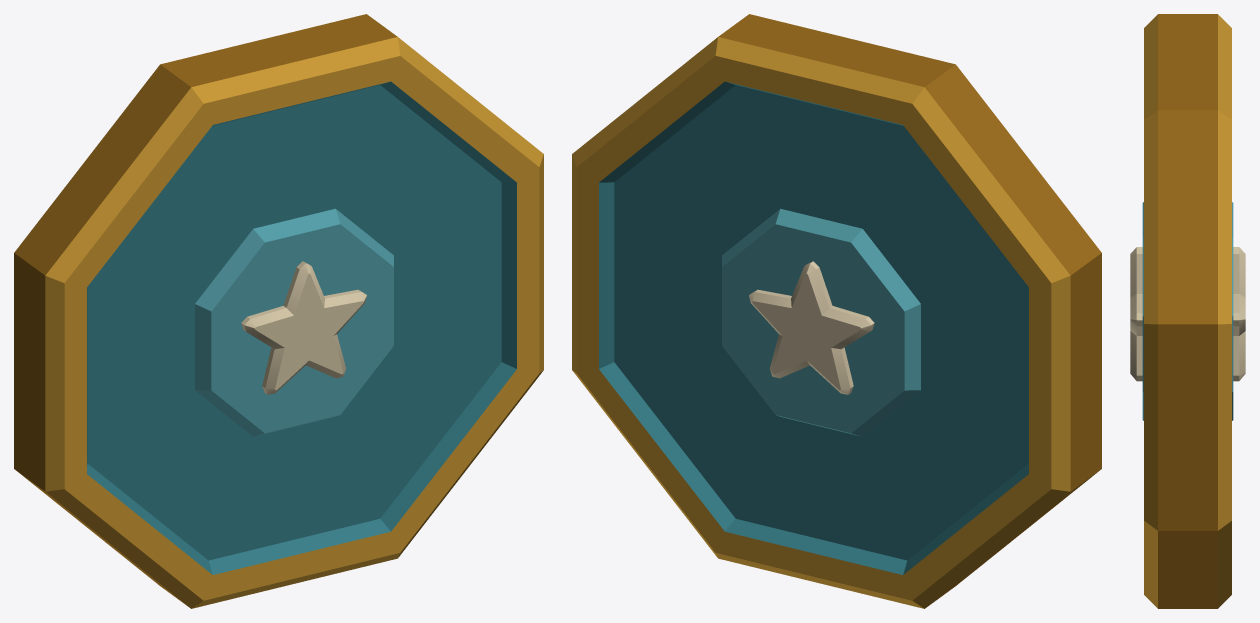
File: Coin_40.glb
The picture shows the model from 3 angles, left to right: view 1: azimuth 30°, elevation 25°; view 2: azimuth 150°, elevation 25°; view 3: azimuth 270°, elevation 25°; orthographic projection. The views are drawn at different scales.
Visible parts, largest first — view 1: Coin_40; view 2: Coin_40; view 3: Coin_40.
Boxes of the visible parts, bbox=[...] form: Coin_40: bbox=[14, 14, 543, 608]; Coin_40: bbox=[572, 14, 1101, 608]; Coin_40: bbox=[1130, 14, 1245, 608].
Bounding box in the file's own units: 1.75 × 1.75 × 0.368.
